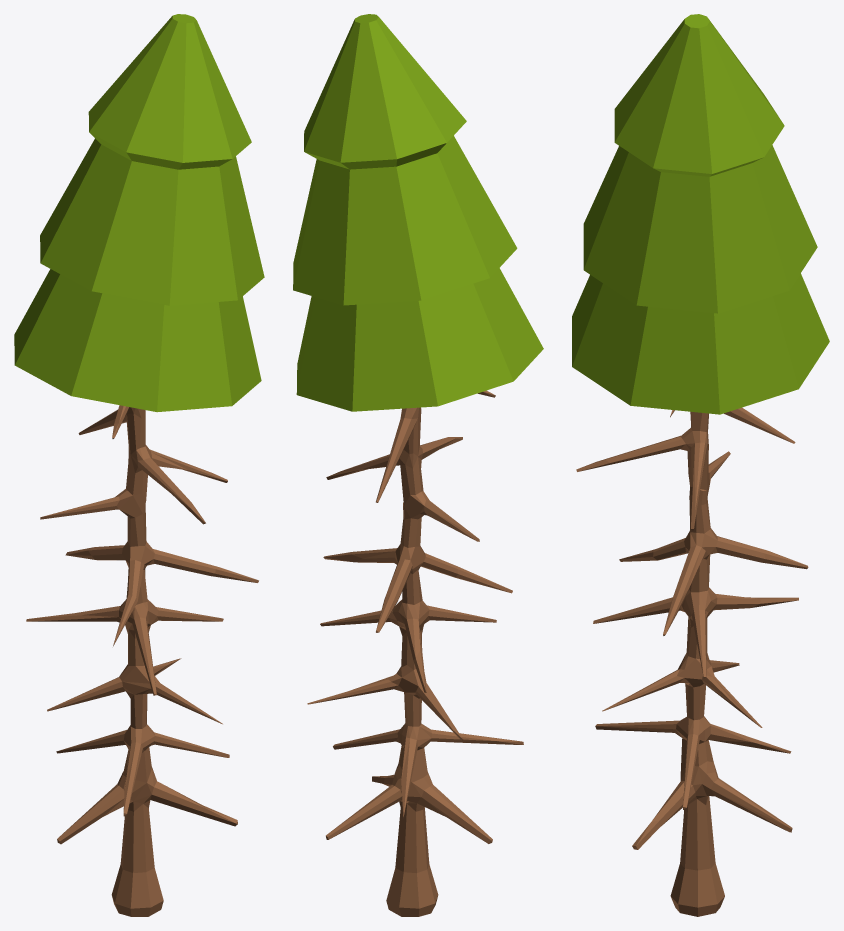
Rendered from tree-summer-complete-001.glb.
3 views of the same model, side by side, from view 1: azimuth 30°, elevation 25°; view 2: azimuth 150°, elevation 25°; view 3: azimuth 270°, elevation 25° (orthographic). The views are drawn at different scales.
Visible parts, largest first — view 1: Tree _51; view 2: Tree _51; view 3: Tree _51.
Boxes of the visible parts, x1,y1,x2,y2 form: Tree _51: (14, 14, 264, 916); Tree _51: (293, 14, 543, 916); Tree _51: (572, 14, 829, 916).
Bounding box in the file's own units: 0.6991 × 2.67 × 0.6818.
